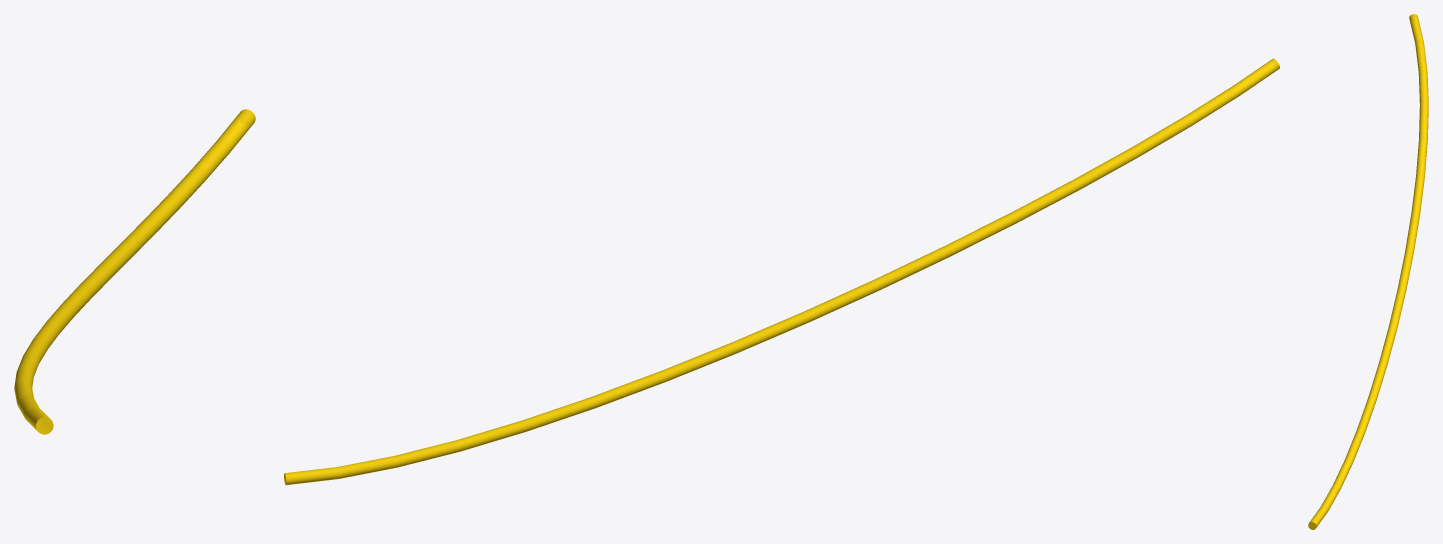
File: Event_421115418_track_175.fbx
3 renders of one model, left to right at view 1: azimuth 90°, elevation 25°; view 2: azimuth 210°, elevation 25°; view 3: azimuth 270°, elevation 25°, orthographic. The views are drawn at different scales.
Visible parts, largest first — view 1: Model; view 2: Model; view 3: Model.
Boxes of the visible parts, x1,y1,x2,y2 form: Model: [14, 109, 255, 434]; Model: [284, 58, 1279, 485]; Model: [1308, 14, 1428, 529].
Bounding box in the file's own units: 3.52 × 0.9147 × 0.5403.
